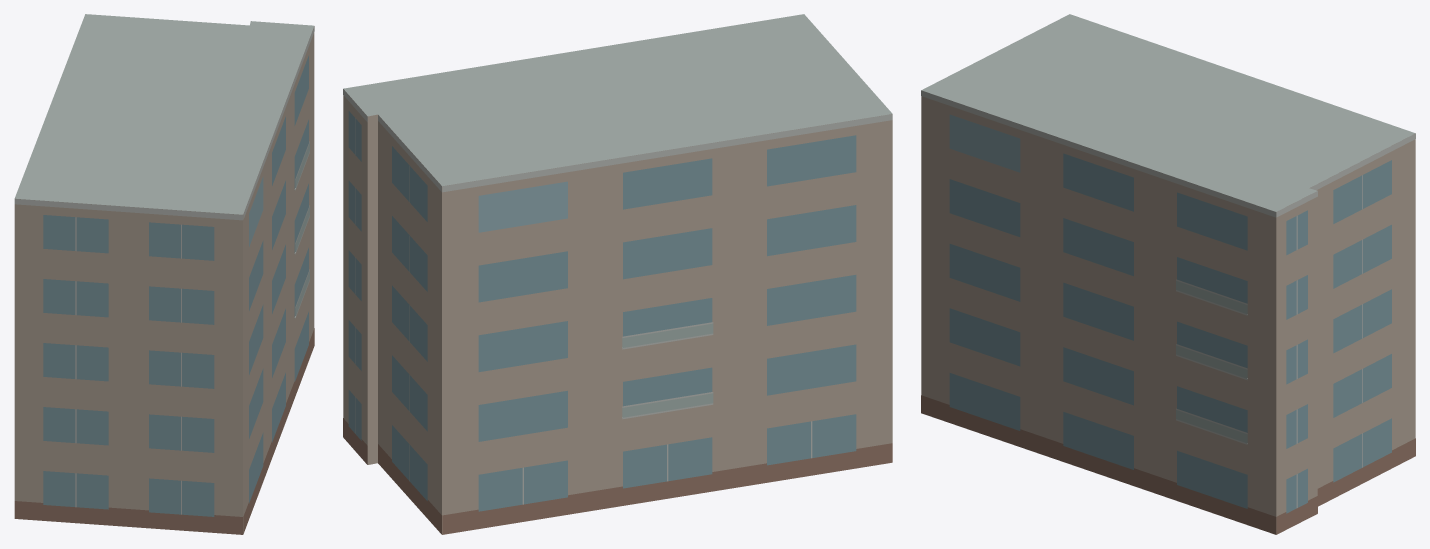
File: survey-upis-32670259.glb
The picture shows the model from 3 angles, left to right: view 1: azimuth 30°, elevation 25°; view 2: azimuth 150°, elevation 25°; view 3: azimuth 270°, elevation 25°; orthographic projection. The views are drawn at different scales.
Parts seen in each view (by area): view 1: survey-upis-32670259.tmp; view 2: survey-upis-32670259.tmp; view 3: survey-upis-32670259.tmp.
Boxes of the visible parts, x1=… form: survey-upis-32670259.tmp: x1=14, y1=14, x2=314, y2=534; survey-upis-32670259.tmp: x1=343, y1=14, x2=892, y2=534; survey-upis-32670259.tmp: x1=921, y1=14, x2=1415, y2=534.
Size of the model in its own units: 18.16 by 13.8 by 19.16.
